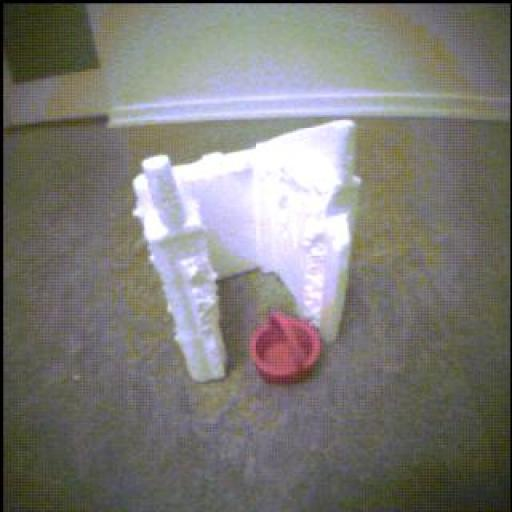Bucket: (251, 313, 323, 385)
